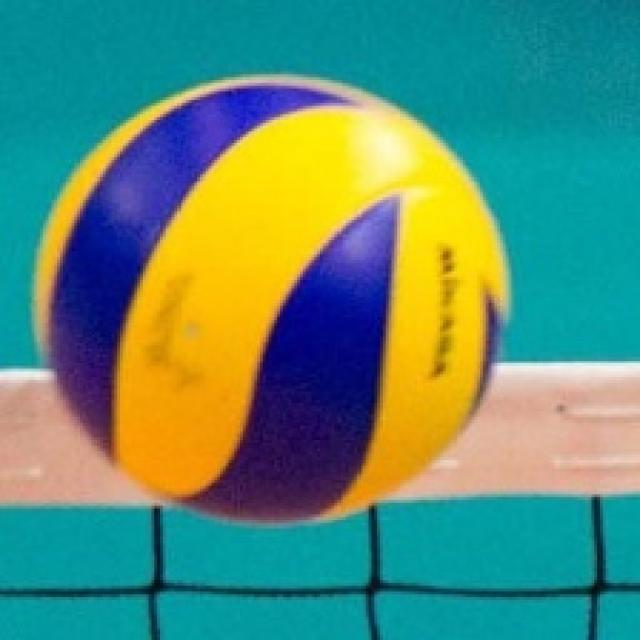volleyball: (39, 74, 506, 522)
